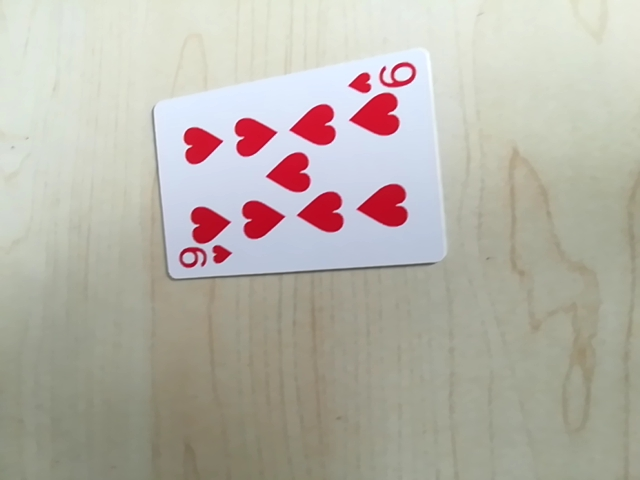hx 9: (348, 55, 422, 95), (173, 243, 233, 275)
